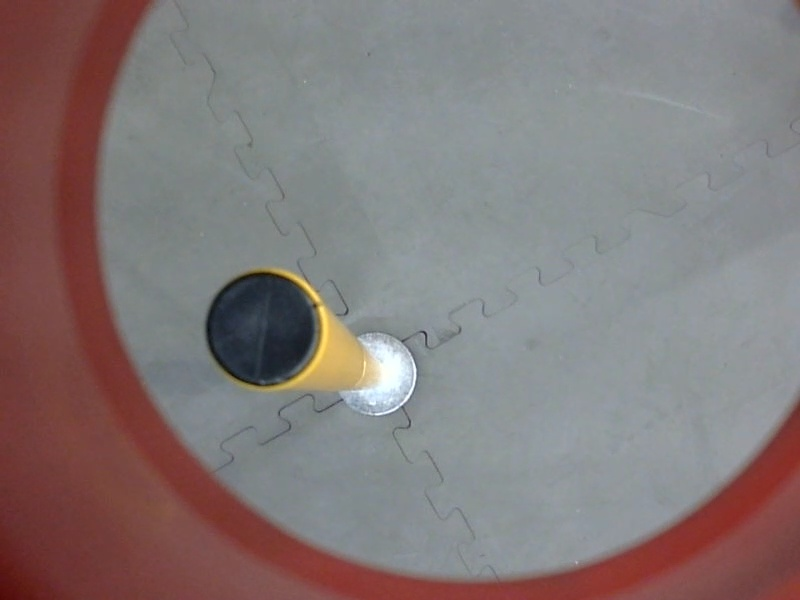tip: (198, 262, 329, 400)
